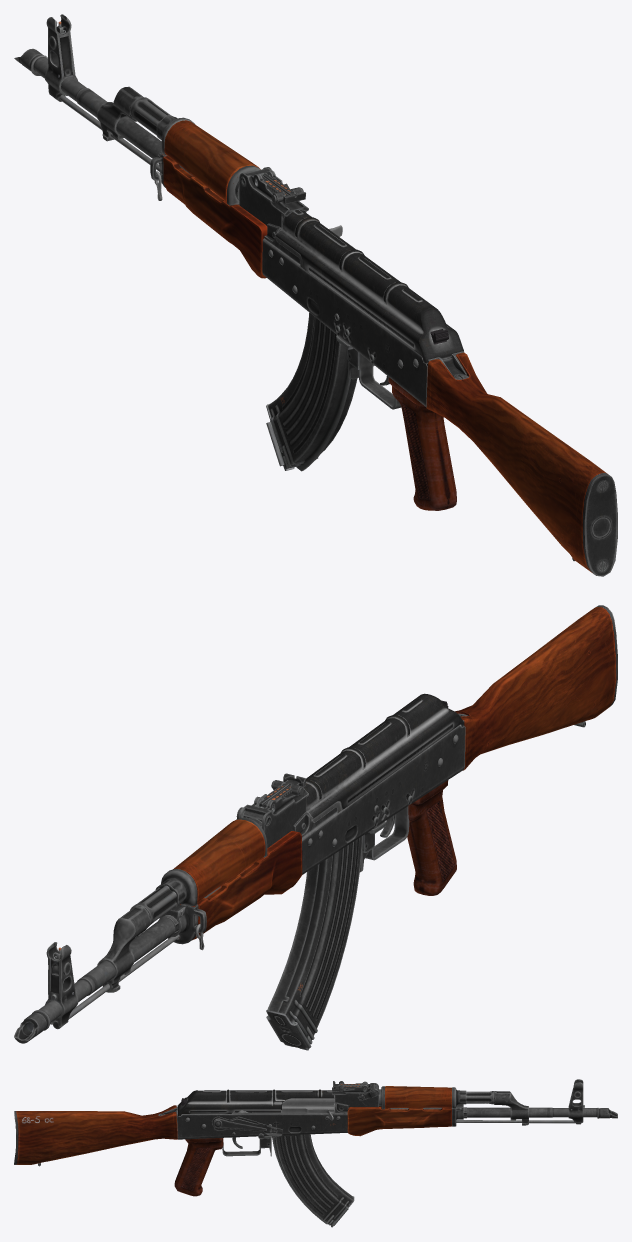
Rendered from akm.opt.glb.
3 renders of one model, top to bottom at view 1: azimuth 30°, elevation 25°; view 2: azimuth 150°, elevation 25°; view 3: azimuth 270°, elevation 25°, orthographic. The views are drawn at different scales.
Visible parts, largest first — view 1: 2_low_Mat2_0, shompol_low_Mat2_0.001, Dop1_low.001_Mat2_0; view 2: 2_low_Mat2_0, shompol_low_Mat2_0.001, Dop1_low.001_Mat2_0; view 3: 2_low_Mat2_0, shompol_low_Mat2_0.001, Dop1_low.001_Mat2_0, per_low_Mat2_0.001.
Boxes of the visible parts, x1,y1,x2,y2 form: 2_low_Mat2_0: [14, 14, 617, 576]; shompol_low_Mat2_0.001: [55, 94, 463, 471]; Dop1_low.001_Mat2_0: [239, 167, 308, 263]; 2_low_Mat2_0: [14, 605, 617, 1043]; shompol_low_Mat2_0.001: [53, 693, 464, 1050]; Dop1_low.001_Mat2_0: [239, 773, 337, 847]; 2_low_Mat2_0: [14, 1079, 617, 1196]; shompol_low_Mat2_0.001: [178, 1086, 581, 1227]; Dop1_low.001_Mat2_0: [332, 1081, 378, 1113]; per_low_Mat2_0.001: [211, 1116, 282, 1136].
Size of the model in its own units: 1.26 by 4.56 by 17.36.
Materials: 4 (3 with a texture image).
